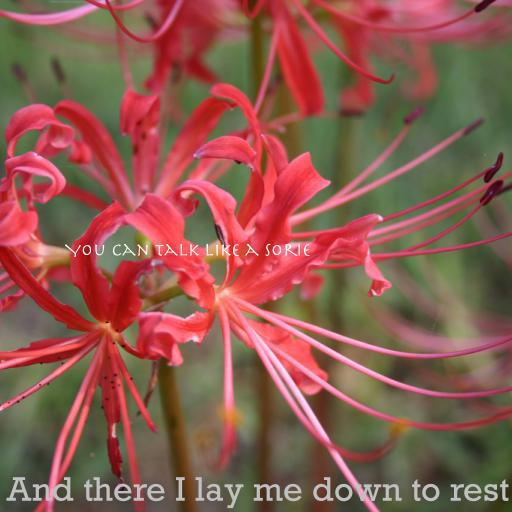Herculanum: (65, 243, 311, 258)
Rockwell: (5, 477, 509, 509)
